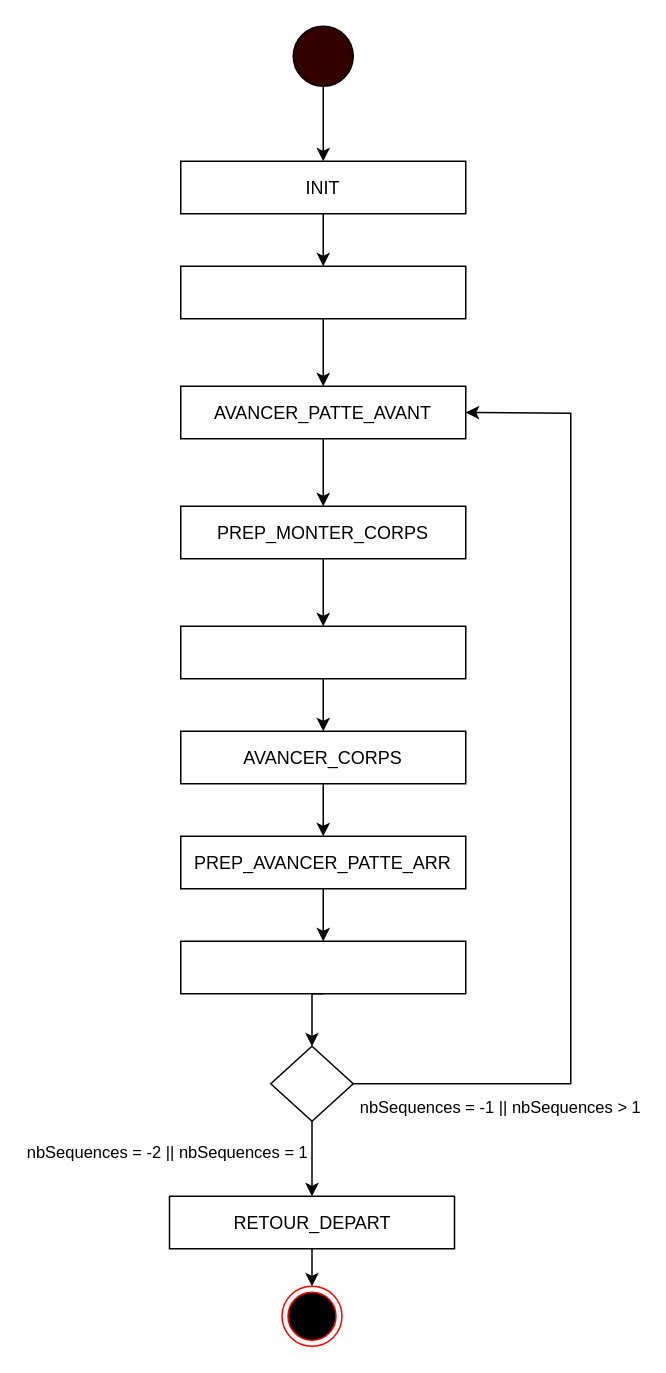
The diagram is 666 pixels wide and 1373 high, and some of its shapes have lost their labels. Here are the shapes that lost their labels. From the top down, the box of each, then its label:
(179, 265, 466, 319): PREP_AVANCER_PATTE_AV
(179, 625, 466, 679): MONTER_CORPS
(179, 940, 466, 994): AVANCER_PATTE_ARR
